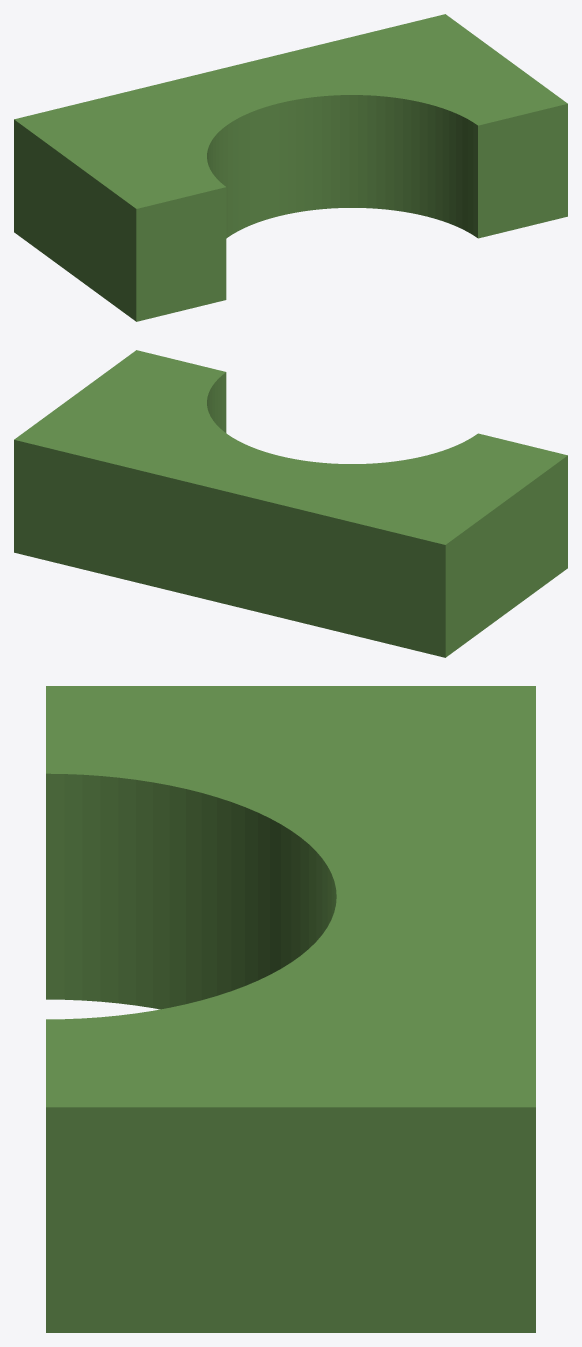
Rendered from BigArchG.fbx.
3 renders of one model, top to bottom at view 1: azimuth 30°, elevation 25°; view 2: azimuth 150°, elevation 25°; view 3: azimuth 270°, elevation 25°, orthographic. The views are drawn at different scales.
Visible parts, largest first — view 1: BigArchG; view 2: BigArchG; view 3: BigArchG.
Boxes of the visible parts, bbox=[...] form: BigArchG: bbox=[14, 14, 567, 321]; BigArchG: bbox=[14, 350, 567, 657]; BigArchG: bbox=[46, 686, 535, 1332].
Bounding box in the file's own units: 2400 × 600 × 1180.
